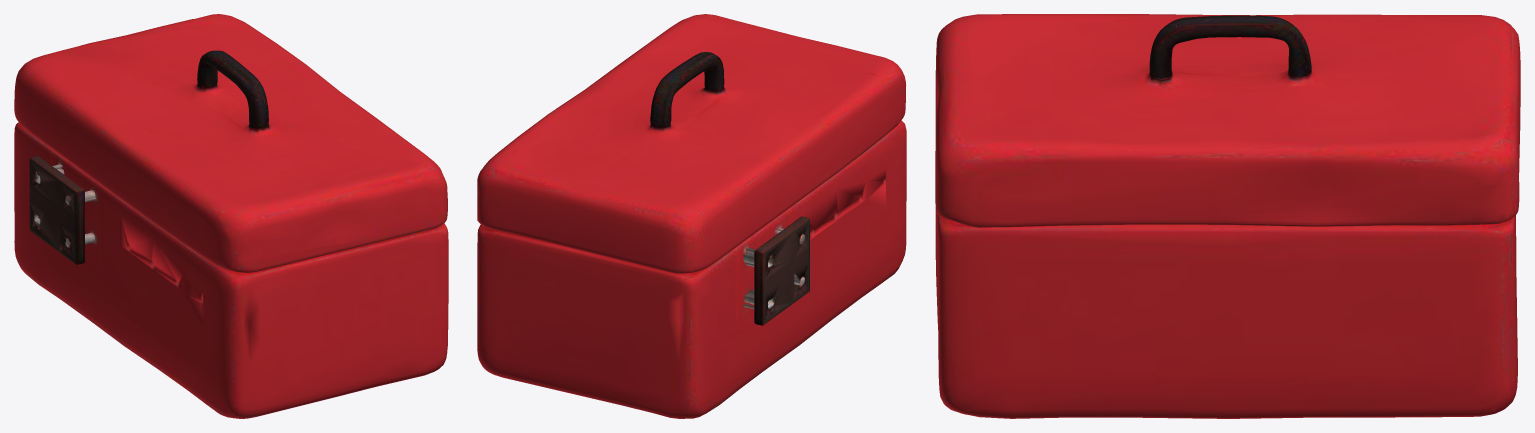
File: toolbox.glb
3 views of the same model, side by side, from view 1: azimuth 30°, elevation 25°; view 2: azimuth 150°, elevation 25°; view 3: azimuth 270°, elevation 25° (orthographic). The views are drawn at different scales.
Parts seen in each view (by area): view 1: Model; view 2: Model; view 3: Model.
Part boxes in pixels (x1=…): Model: x1=14, y1=14, x2=448, y2=418; Model: x1=477, y1=14, x2=906, y2=418; Model: x1=935, y1=14, x2=1520, y2=418.
Bounding box in the file's own units: 0.6489 × 0.6362 × 0.9995.
1 material, 1 textured.
